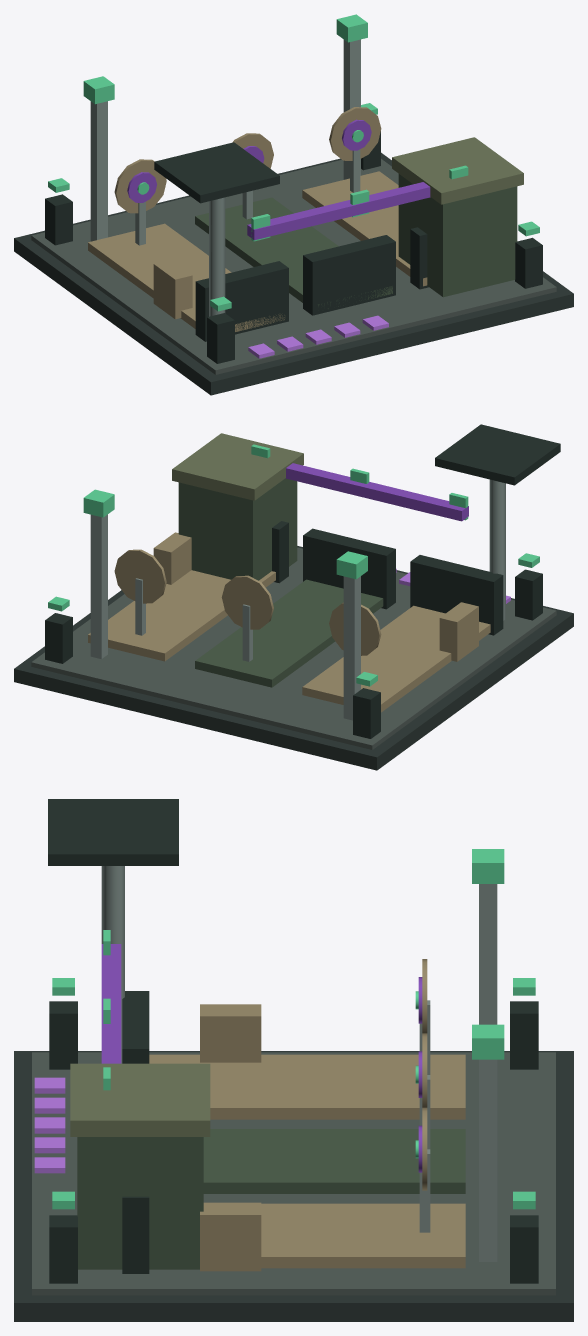
File: ridgewatch_l05.glb
3 renders of one model, top to bottom at view 1: azimuth 30°, elevation 25°; view 2: azimuth 150°, elevation 25°; view 3: azimuth 270°, elevation 25°, orthographic. The views are drawn at different scales.
Parts seen in each view (by area): view 1: ridgewatch_l05; view 2: ridgewatch_l05; view 3: ridgewatch_l05.
Boxes of the visible parts, x1,y1,x2,y2 form: ridgewatch_l05: (14,14,573,395); ridgewatch_l05: (14,424,573,770); ridgewatch_l05: (14,799,573,1321).
Size of the model in its own units: 6.6 by 3.32 by 6.2.
